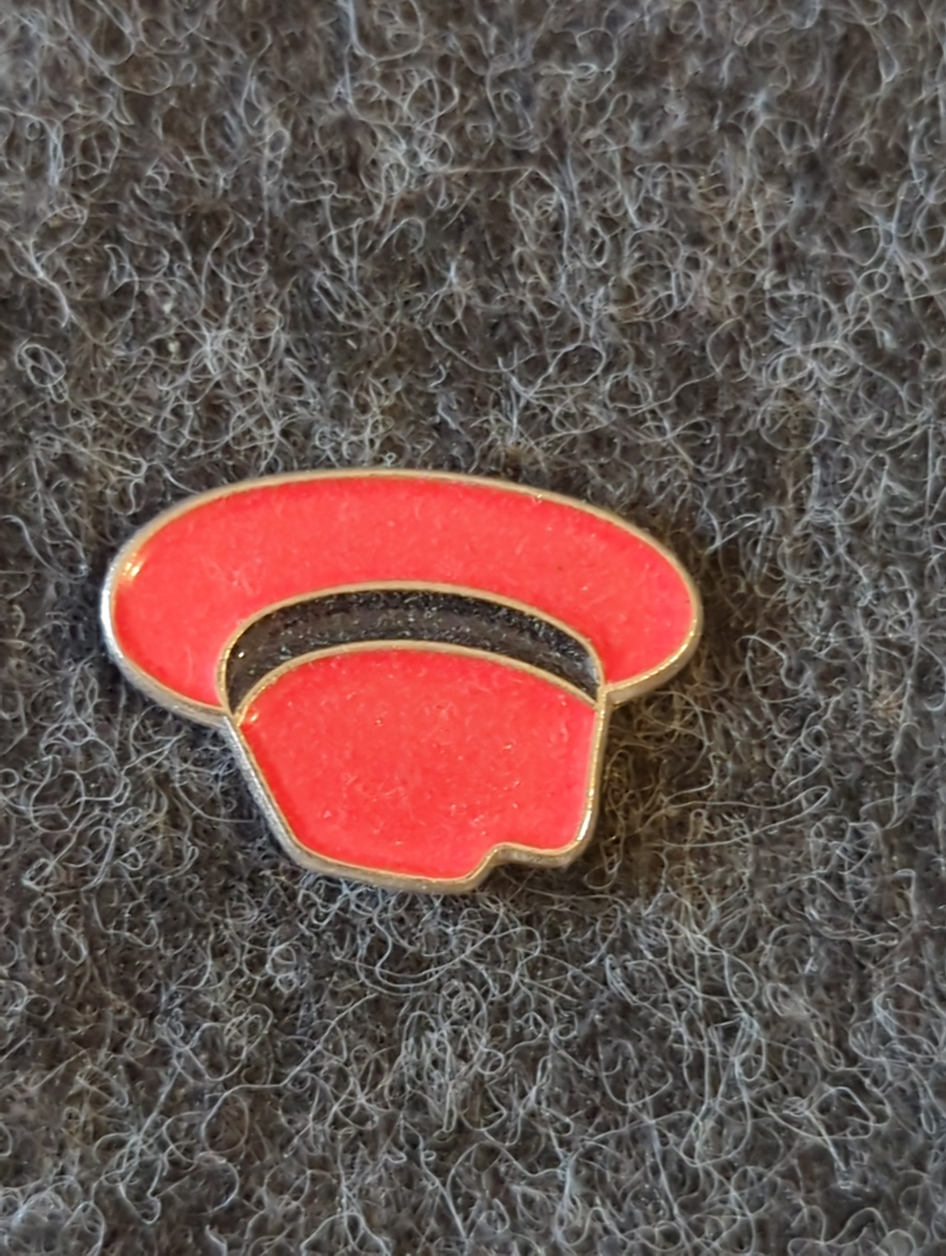Red-Hat: (21, 371, 852, 1058)
